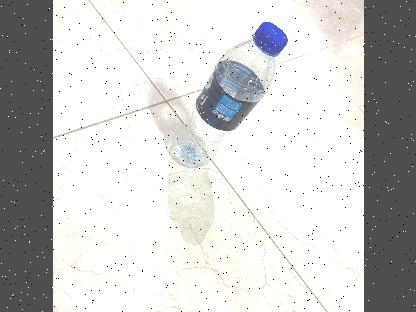Plastic Bottle: (168, 21, 287, 168)
